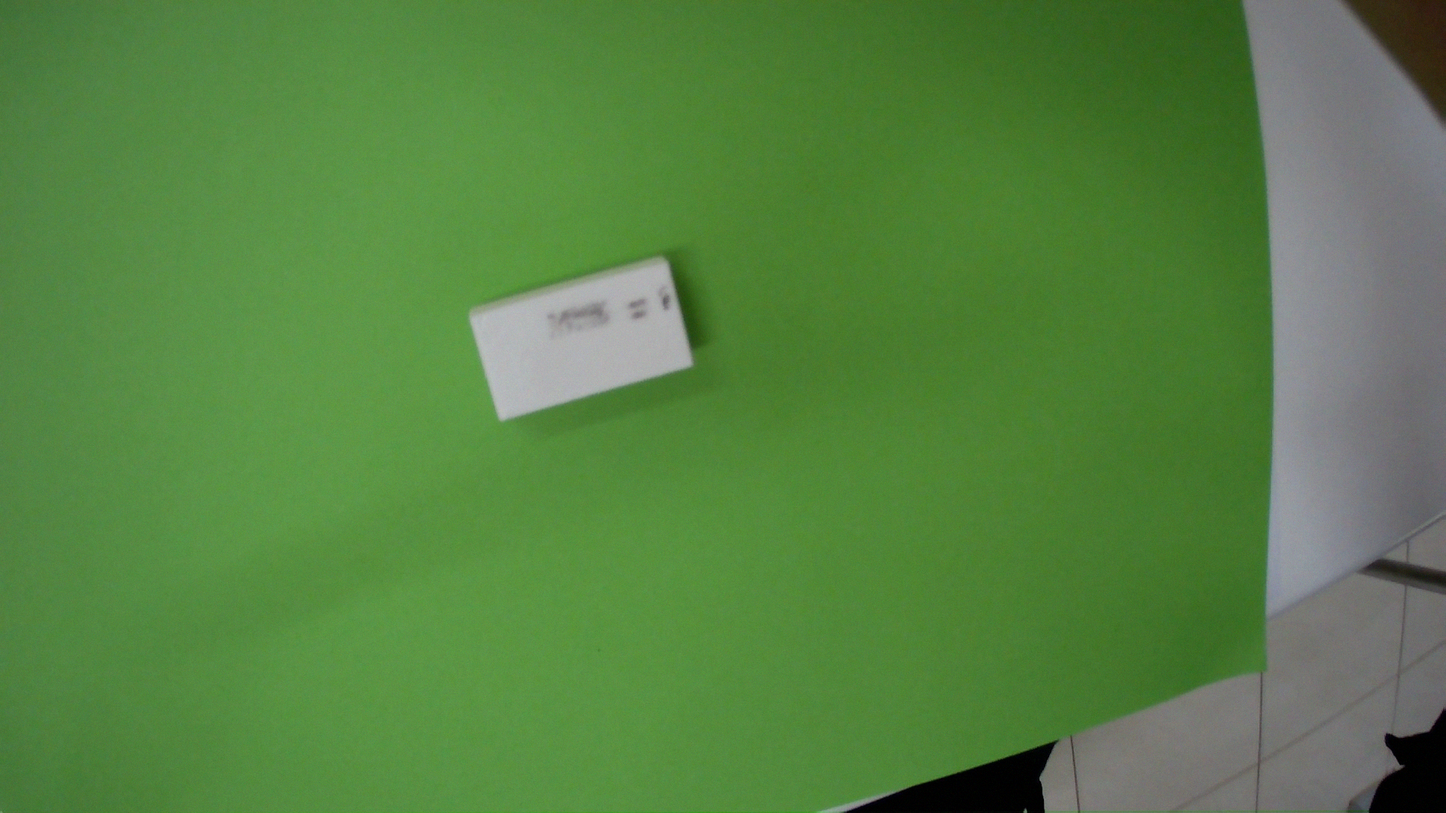gom: (468, 252, 706, 421)
